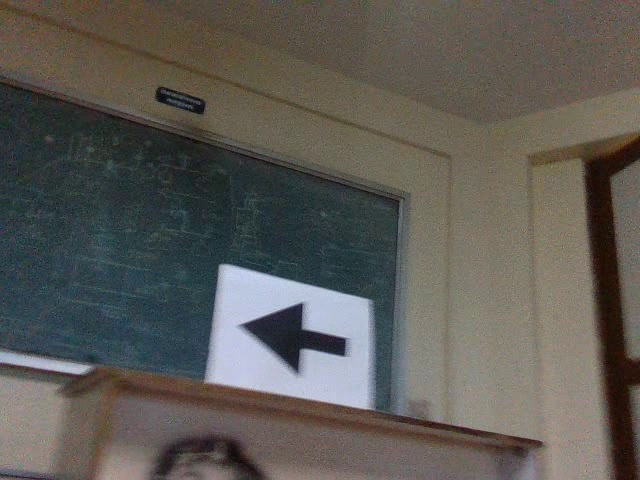Left: (236, 294, 353, 381)
